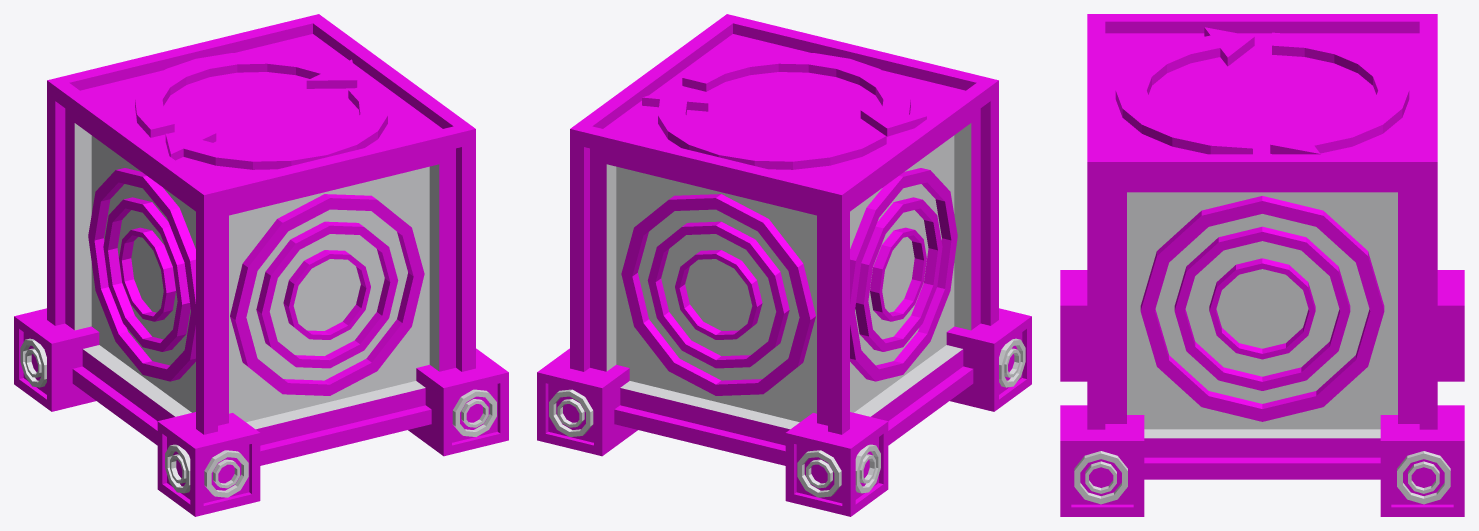
Rendered from ConfusionBlock.fbx.
3 renders of one model, left to right at view 1: azimuth 30°, elevation 25°; view 2: azimuth 150°, elevation 25°; view 3: azimuth 270°, elevation 25°, orthographic. The views are drawn at different scales.
Parts seen in each view (by area): view 1: Mesh; view 2: Mesh; view 3: Mesh.
Part boxes in pixels (<box>): Mesh: <box>14,14,508,516</box>; Mesh: <box>537,14,1031,516</box>; Mesh: <box>1060,14,1464,516</box>.
Size of the model in its own units: 0.7928 by 0.7434 by 0.7928.
